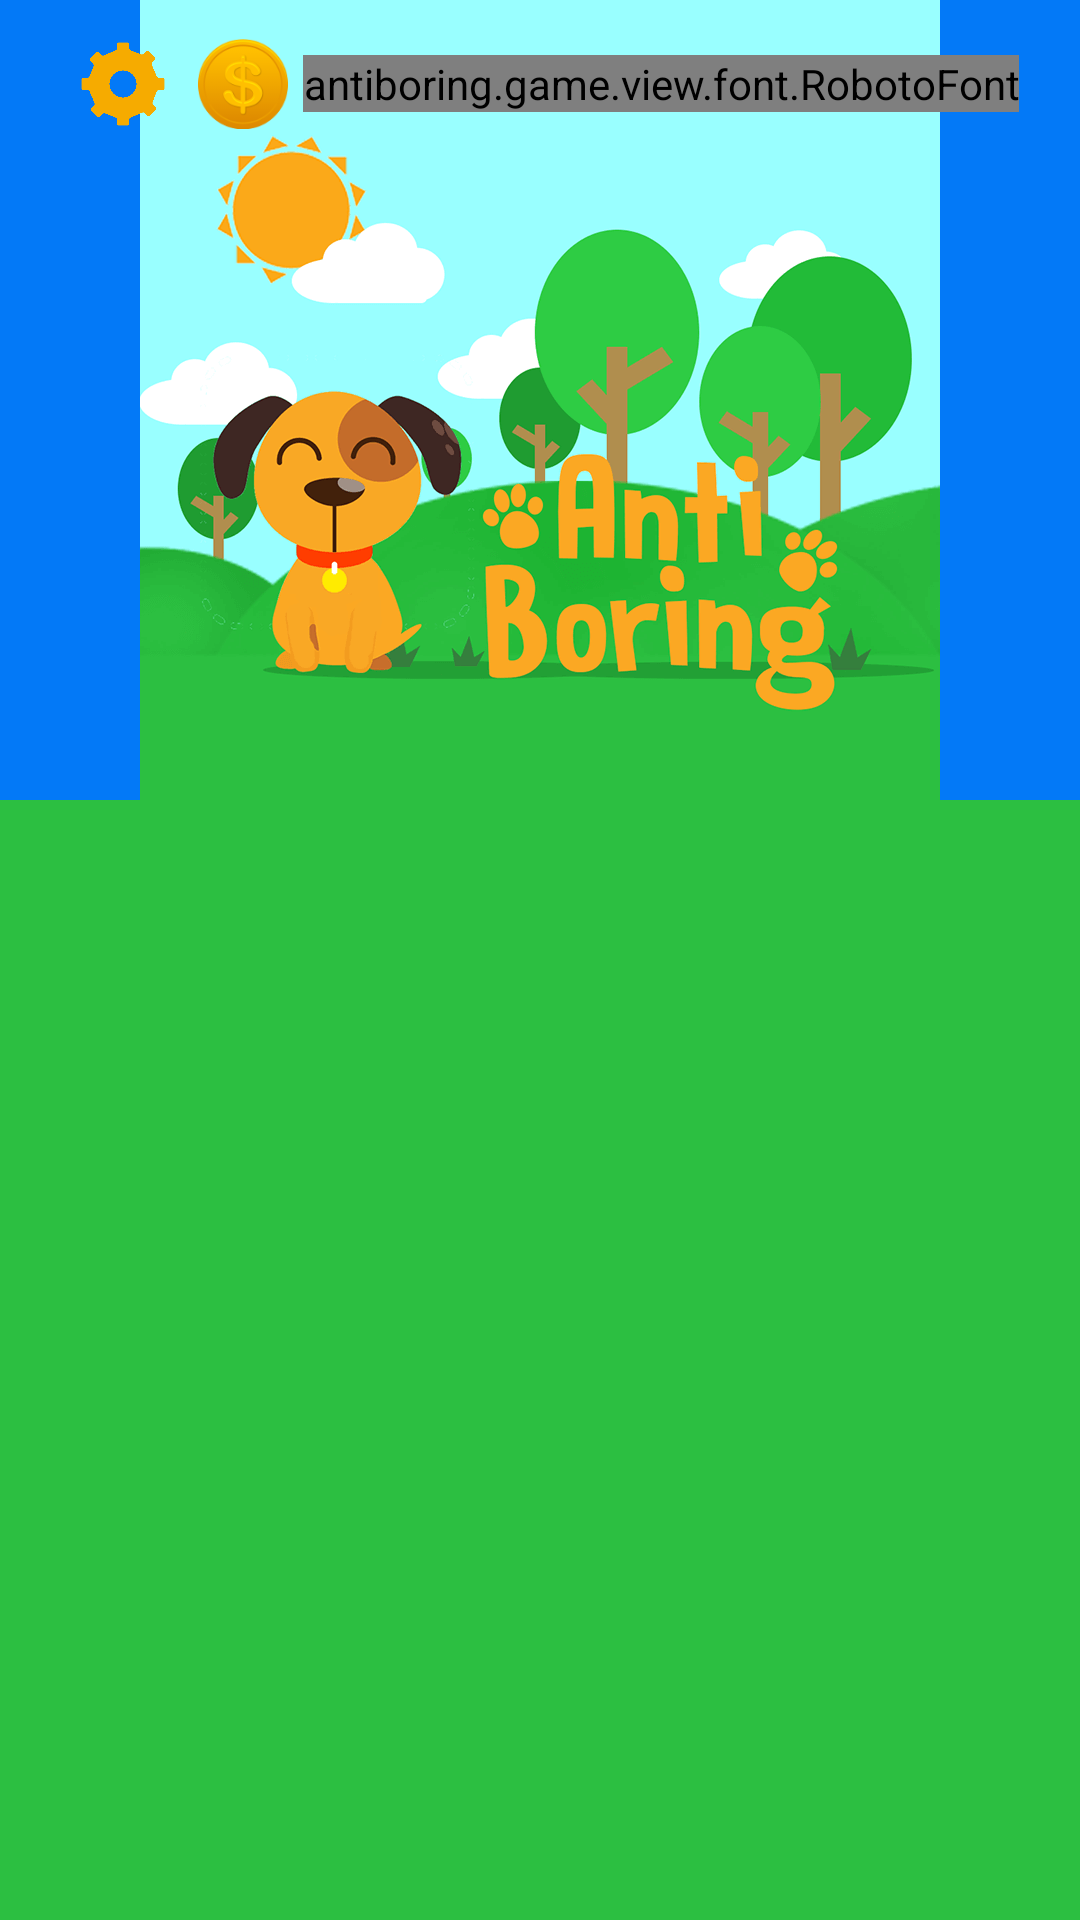

Screen size 1080px x 1920px. Icon name, then its center in pixels as [x,y]:
coins: [243,84]
settingbaru: [123,84]
